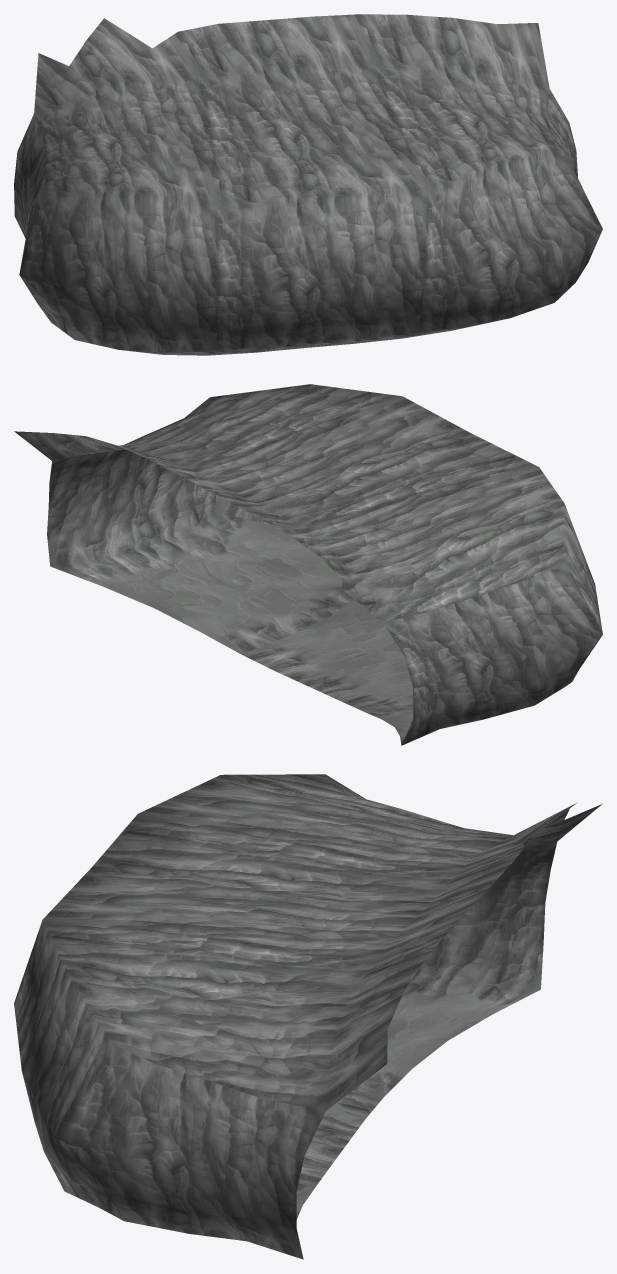
File: SWORDLIGHT20_PS-AREA04_03.fbx
The picture shows the model from 3 angles, top to bottom: view 1: azimuth 30°, elevation 25°; view 2: azimuth 150°, elevation 25°; view 3: azimuth 270°, elevation 25°; orthographic projection. The views are drawn at different scales.
Visible parts, largest first — view 1: SWORDLIGHT20_PS-AREA04_03; view 2: SWORDLIGHT20_PS-AREA04_03; view 3: SWORDLIGHT20_PS-AREA04_03.
Part boxes in pixels (x1,y1,x2,y2): SWORDLIGHT20_PS-AREA04_03: (14, 14, 602, 355); SWORDLIGHT20_PS-AREA04_03: (14, 384, 602, 745); SWORDLIGHT20_PS-AREA04_03: (14, 774, 602, 1259).
Bounding box in the file's own units: 162196 × 64878 × 119412.
3 materials, 3 textured.
